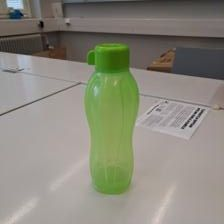bottle: (84, 42, 139, 193)
